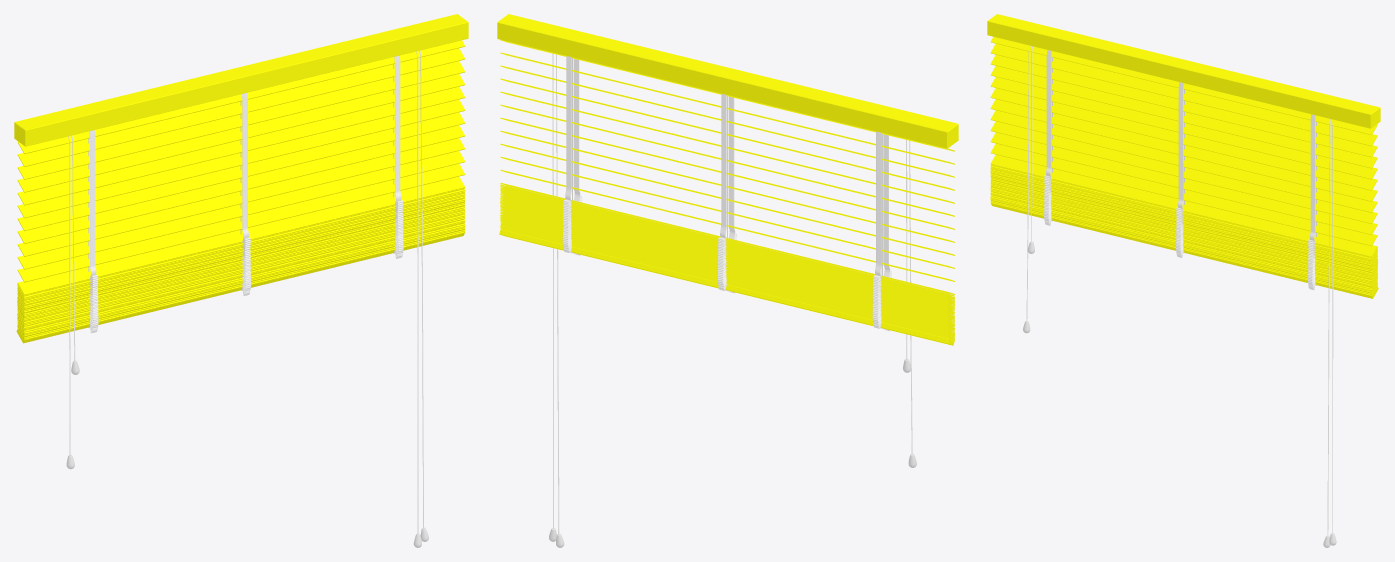
Rendered from SM_Blinds_1.glb.
The picture shows the model from 3 angles, left to right: view 1: azimuth 30°, elevation 25°; view 2: azimuth 150°, elevation 25°; view 3: azimuth 330°, elevation 25°; orthographic projection. The views are drawn at different scales.
Parts seen in each view (by area): view 1: SM_Blinds_1; view 2: SM_Blinds_1; view 3: SM_Blinds_1.
Boxes of the visible parts, x1=… form: SM_Blinds_1: x1=14, y1=14, x2=468, y2=547; SM_Blinds_1: x1=497, y1=14, x2=958, y2=547; SM_Blinds_1: x1=987, y1=14, x2=1380, y2=547.
Bounding box in the file's own units: 1.58 × 1.74 × 0.0936.
Materials: 3 (1 with a texture image).
